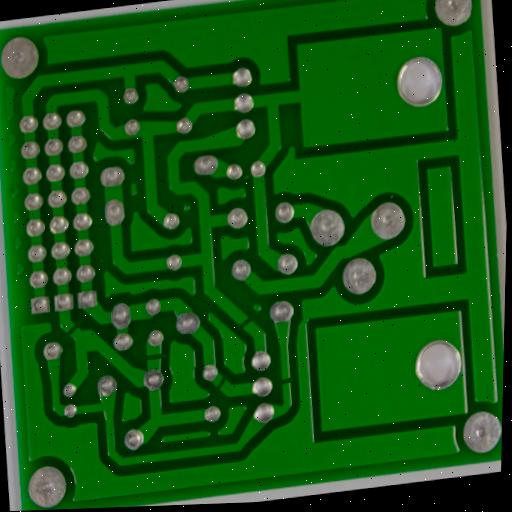open_circuit: (140, 348, 166, 366), (212, 374, 232, 395), (63, 322, 85, 339), (237, 315, 257, 331), (278, 375, 295, 389)
